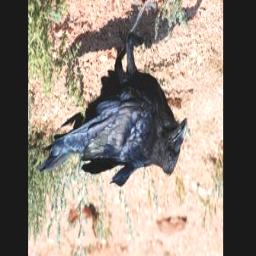Crow: (37, 0, 188, 189)
